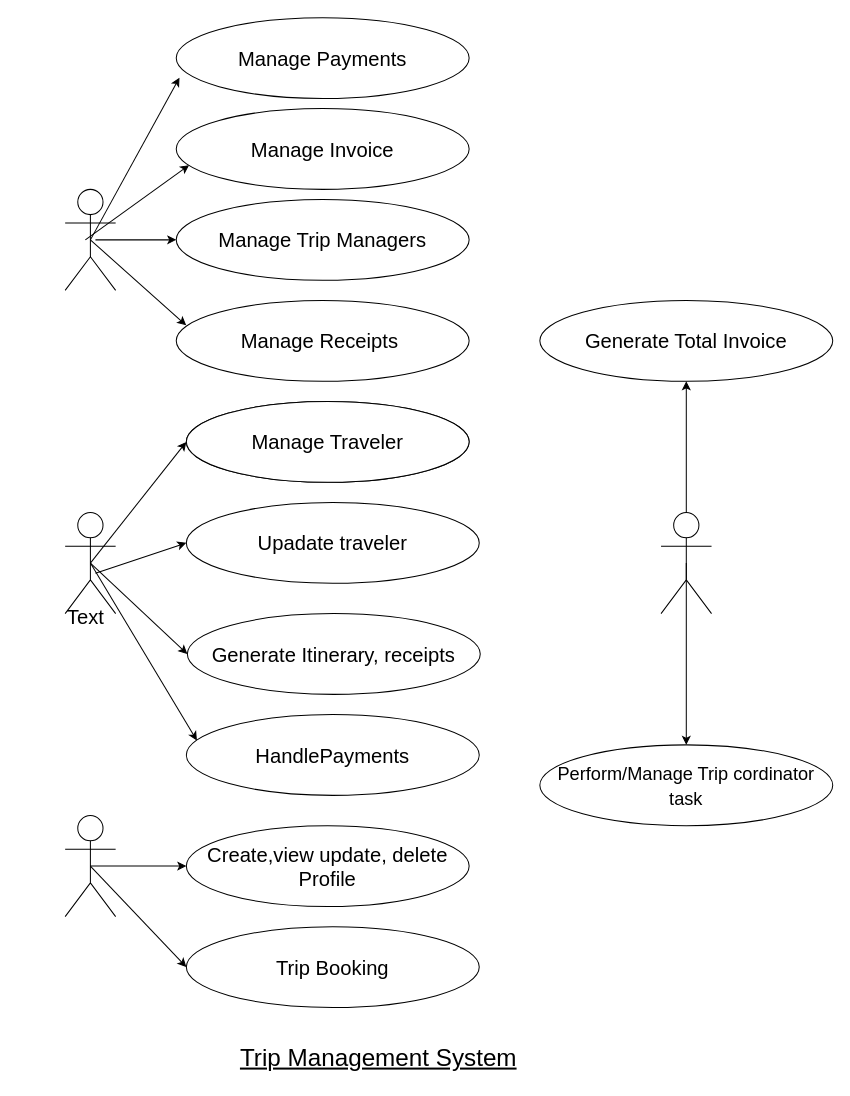
The diagram is 850 pixels wide and 1096 high, and some of its shapes have lost their labels. Here are the shapes that lost their labels. From the top down, the centre of each, then its label:
At pixel 90 239: "Administrator".
At pixel 90 563: "Trip Coordinator".
At pixel 686 563: "Trip Manager".
At pixel 90 866: "Traveler".
